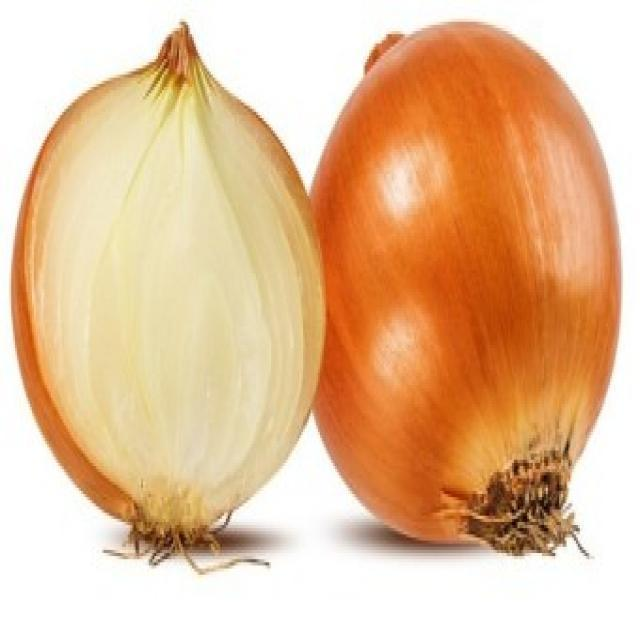onion: (314, 13, 628, 566), (13, 11, 324, 558)
